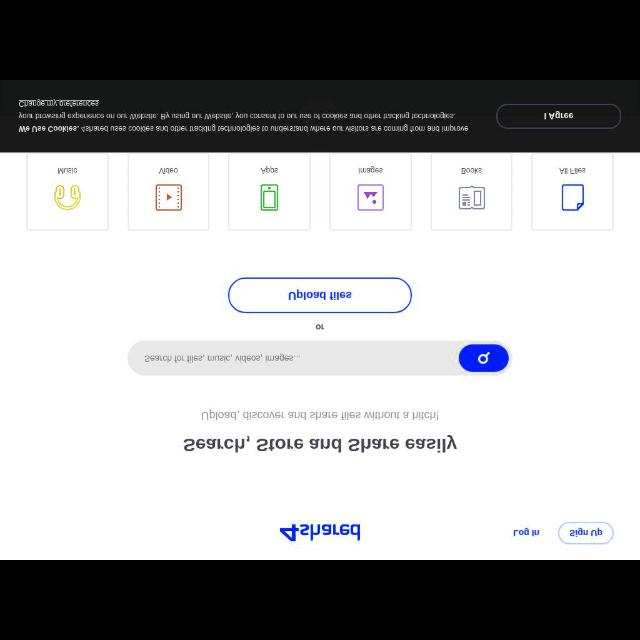button: (458, 344, 509, 372)
icon: (54, 184, 82, 210), (156, 184, 182, 210), (358, 184, 384, 210), (459, 185, 485, 209), (562, 185, 584, 211), (262, 184, 278, 210), (478, 352, 490, 364)
iframe: (1, 81, 640, 152)
image: (280, 524, 360, 542)
input: (128, 340, 512, 376)
panel: (26, 154, 110, 230), (228, 154, 312, 230), (128, 153, 210, 230), (330, 154, 412, 230), (532, 154, 614, 230), (432, 154, 512, 230)
text: (19, 98, 469, 132), (185, 434, 458, 454), (202, 410, 438, 420), (145, 353, 301, 362), (288, 290, 352, 300), (544, 110, 574, 120), (570, 528, 602, 536), (513, 528, 539, 536), (358, 166, 384, 174), (560, 168, 586, 174), (260, 166, 278, 174), (158, 168, 178, 174), (462, 168, 482, 174), (58, 168, 78, 174), (316, 324, 324, 330)
textbutton: (228, 278, 412, 312), (496, 104, 622, 128), (558, 522, 614, 544)
